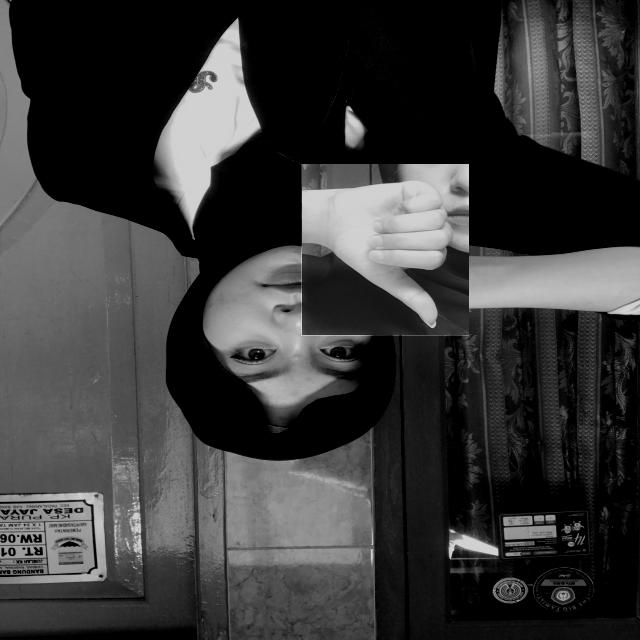sedih: (301, 164, 469, 336)
